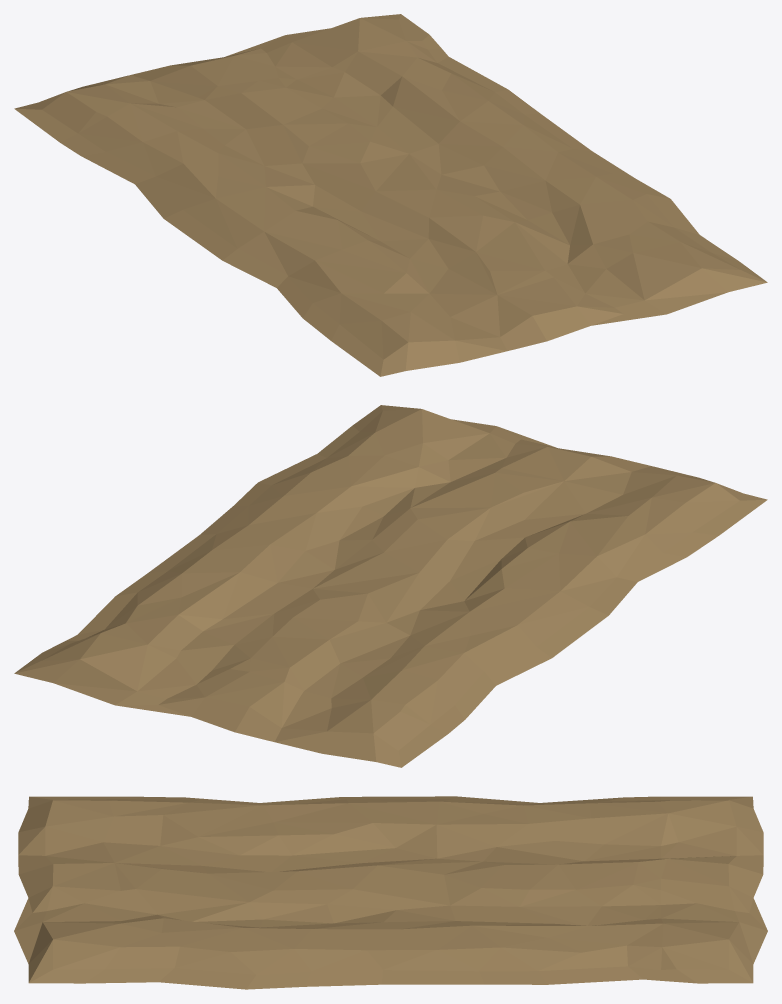
File: SM_Envr_Nature_Farm_DirtRoad_01.fbx
3 views of the same model, one above another, from view 1: azimuth 30°, elevation 25°; view 2: azimuth 150°, elevation 25°; view 3: azimuth 270°, elevation 25° (orthographic).
Parts seen in each view (by area): view 1: SM_Envr_Nature_Farm_DirtRoad_01; view 2: SM_Envr_Nature_Farm_DirtRoad_01; view 3: SM_Envr_Nature_Farm_DirtRoad_01.
Part boxes in pixels (x1,y1,x2,y2): SM_Envr_Nature_Farm_DirtRoad_01: [14, 14, 767, 376]; SM_Envr_Nature_Farm_DirtRoad_01: [14, 405, 767, 767]; SM_Envr_Nature_Farm_DirtRoad_01: [14, 796, 767, 989].
Bounding box in the file's own units: 677 × 30.4 × 1117.
